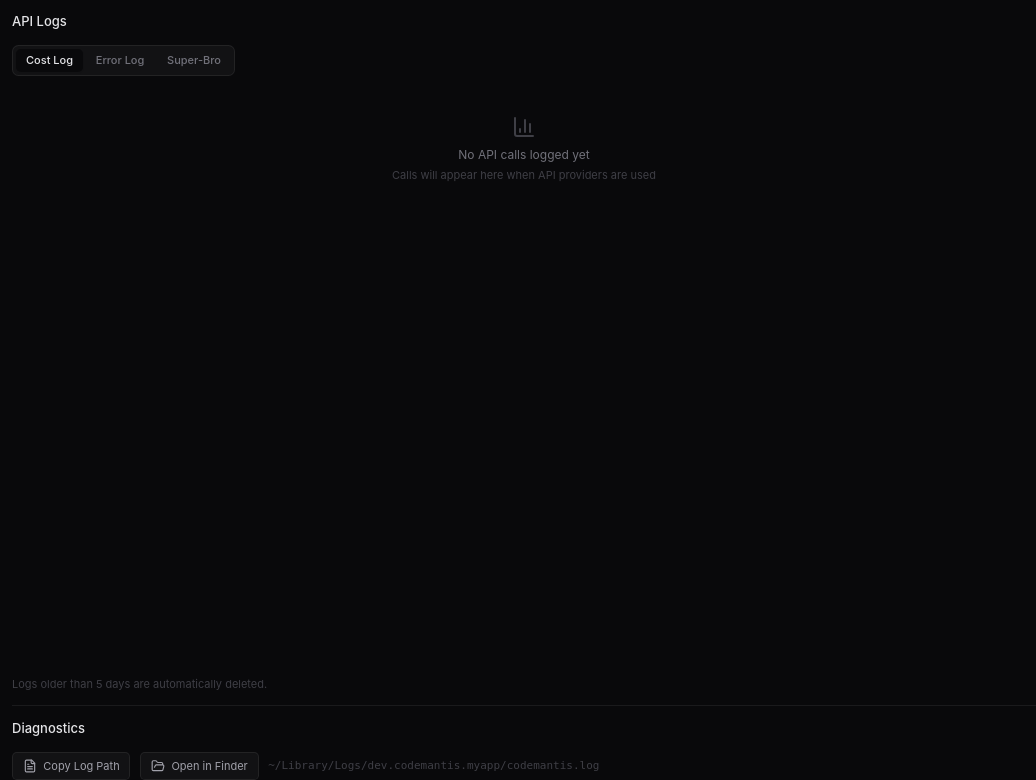
Test: ApiLogsTab › shows empty state for Super-Bro when no log entries
What coordinates should you click on to do the following:
click the button "Super-Bro"
I would click on:
 (194, 60)
Its box is [157,49,231,72].
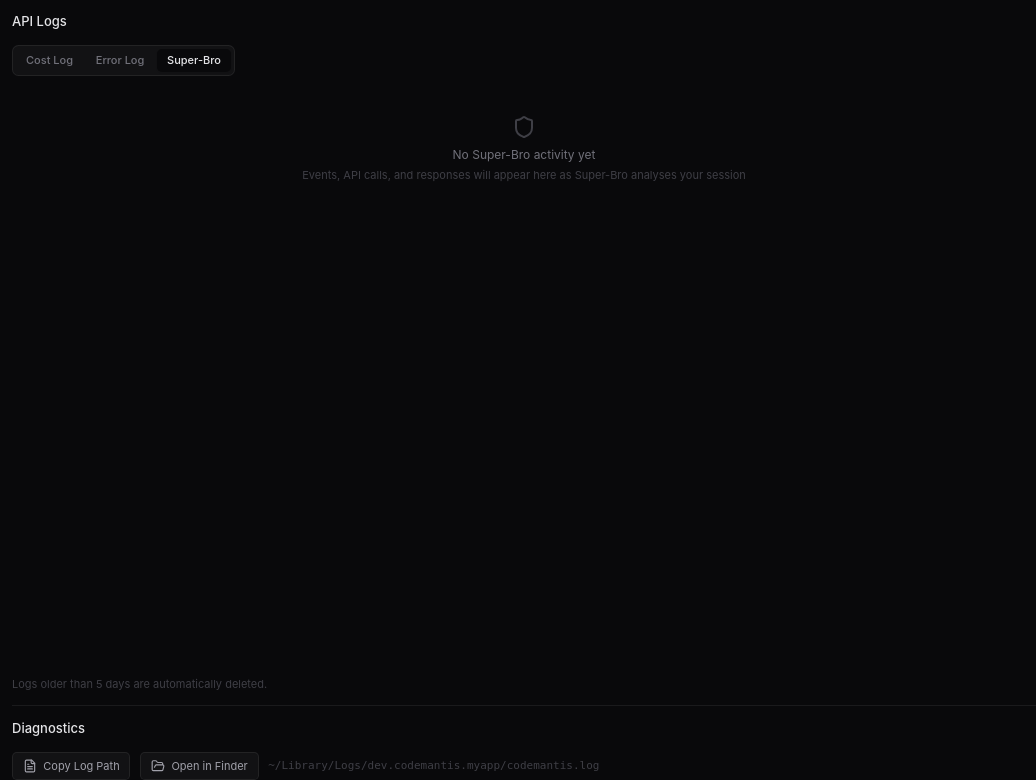
Result: the text "No Super-Bro activity yet" is shown at [453,146,595,162]
